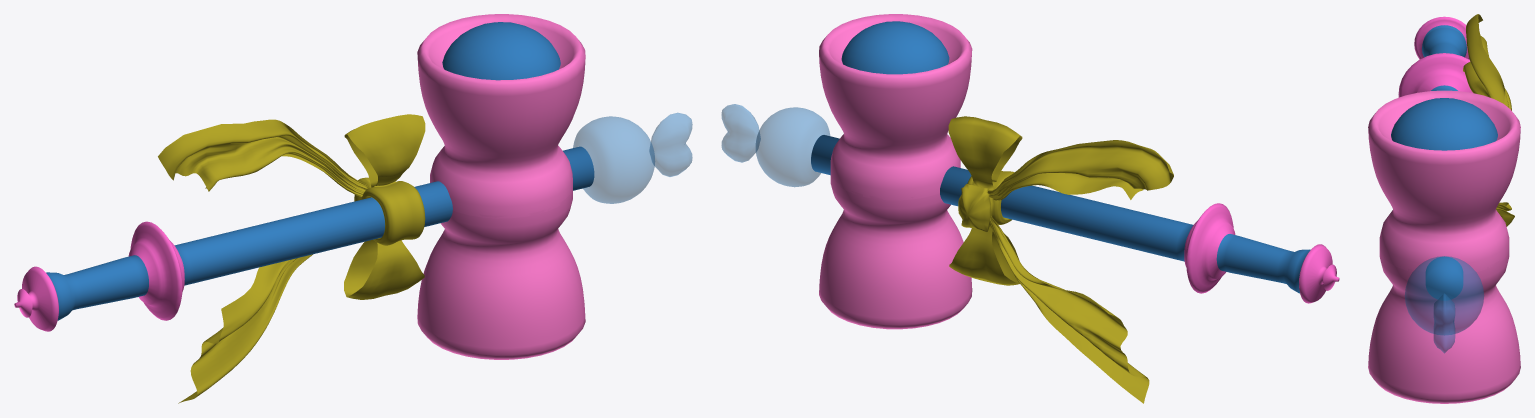
The model's file is pretty_hammer.glb.
3 renders of one model, left to right at view 1: azimuth 30°, elevation 25°; view 2: azimuth 150°, elevation 25°; view 3: azimuth 270°, elevation 25°, orthographic. The views are drawn at different scales.
Visible parts, largest first — view 1: Mace_details; view 2: Mace_details; view 3: Mace_details.
Boxes of the visible parts, x1=… form: Mace_details: x1=14, y1=14, x2=692, y2=403; Mace_details: x1=721, y1=14, x2=1339, y2=403; Mace_details: x1=1368, y1=14, x2=1520, y2=403.
Bounding box in the file's own units: 1.14 × 0.5182 × 0.2465.
